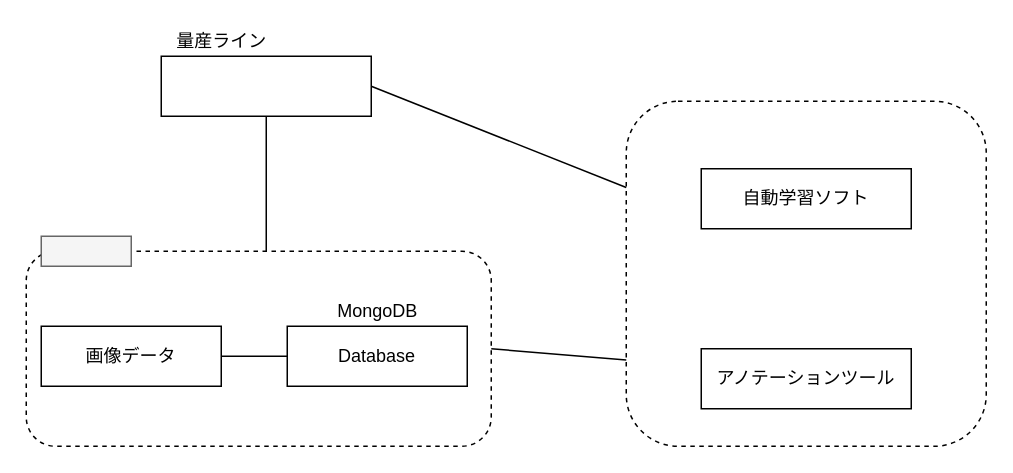
Image size: 1013x473. Some labels were removed from this diagram. Each missing label, with the centre of its shape:
"DB_PC" goes at (x=85, y=250).
"エッジ" goes at (x=265, y=85).
